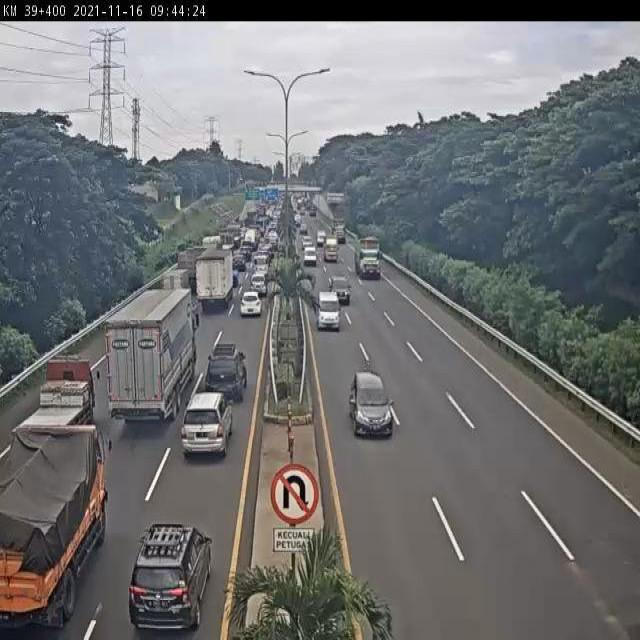car: (121, 516, 209, 636), (176, 392, 232, 467), (347, 368, 394, 439), (203, 344, 250, 405), (316, 283, 338, 321), (239, 291, 262, 320), (329, 270, 348, 298), (252, 275, 267, 297), (254, 256, 271, 275), (301, 245, 317, 264), (300, 233, 312, 246), (316, 228, 326, 243), (299, 222, 308, 235), (294, 213, 301, 226)
small truck: (9, 361, 90, 455), (323, 236, 337, 261)
truck-l-: (105, 283, 200, 436), (352, 233, 383, 280), (331, 218, 346, 242)
truck-m-: (0, 432, 102, 640), (194, 247, 233, 312)
